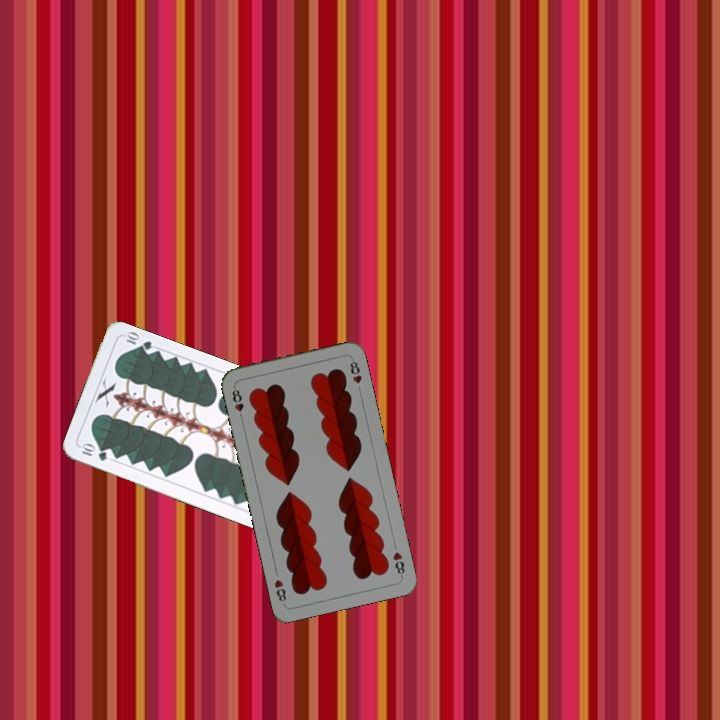G10: (77, 439, 110, 464)
H8: (228, 383, 246, 423), (389, 548, 407, 580)
